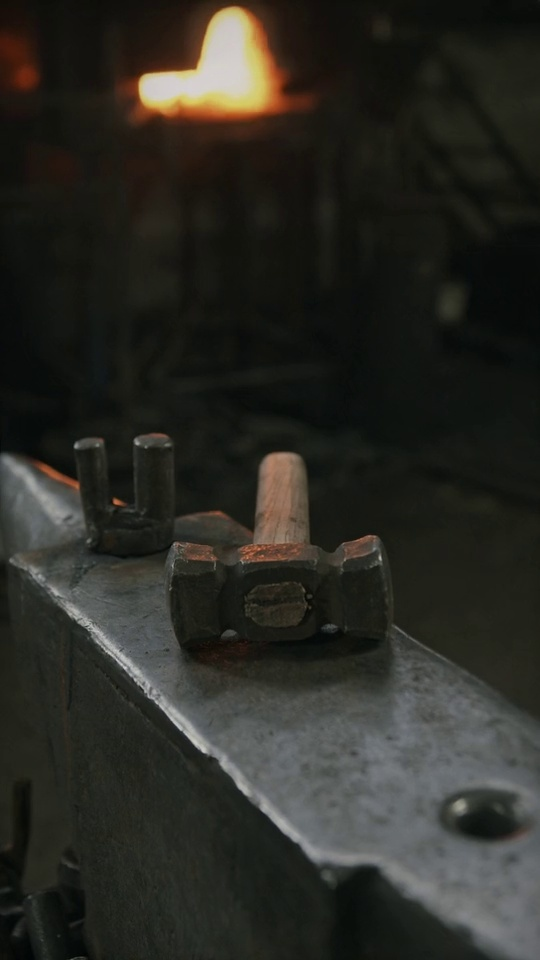hammer: (164, 446, 397, 657)
